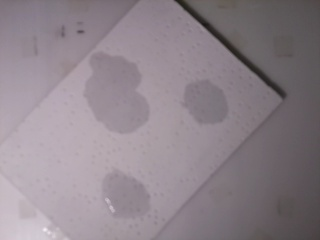Water_detected: (101, 75, 141, 120), (123, 179, 141, 205), (199, 96, 220, 116)
